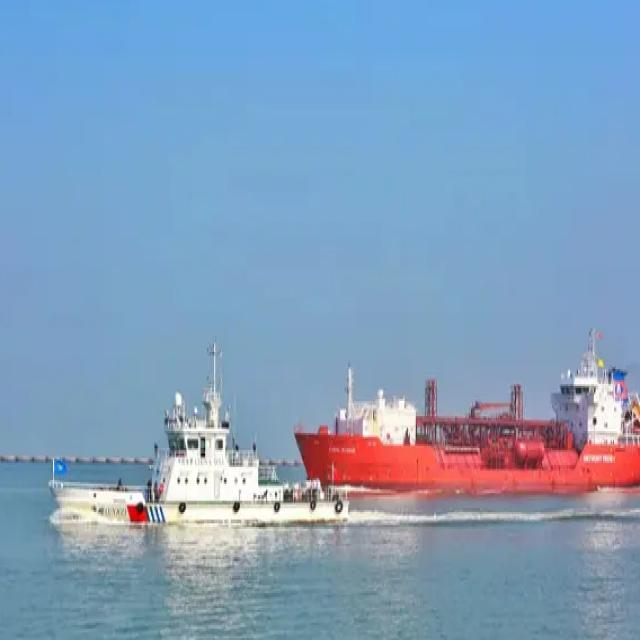cargoship: (289, 312, 640, 506)
houseboat: (46, 294, 352, 538)
